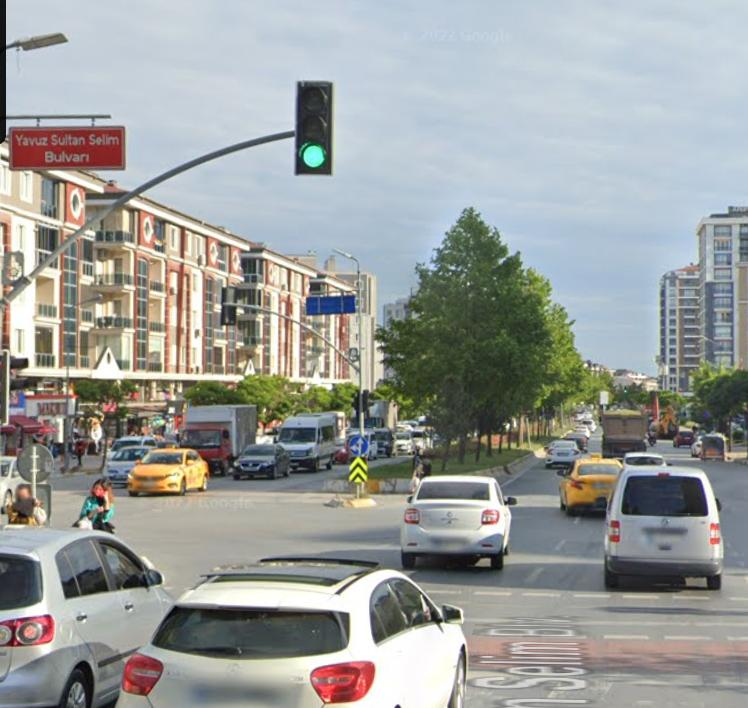greenlight: (296, 79, 330, 176)
